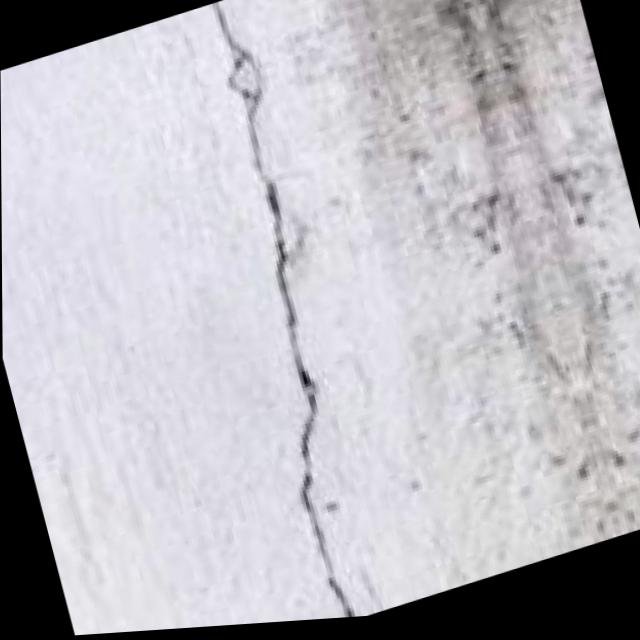Crack: (118, 0, 451, 634)
